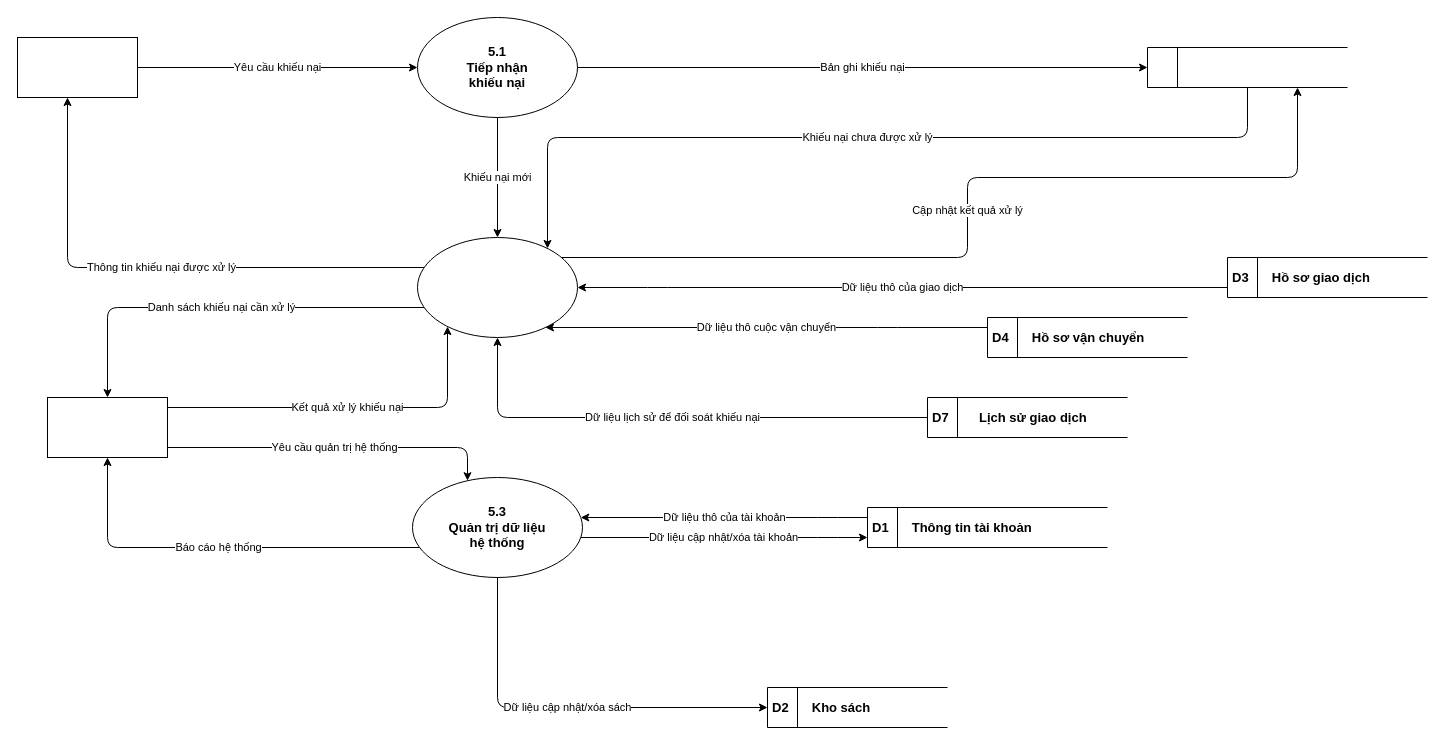
This 1445x745 diagram has some shape labels left out. Each missing label, with the centre of its shape:
5.2 Xử lý khiếu nại: [497,287]
D5 Hồ sơ khiếu nại: [1247,67]
Quản trị viên: [107,427]
Thành viên: [77,67]
